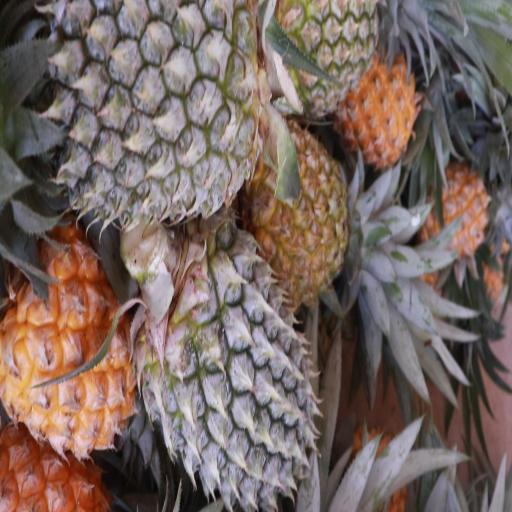------------------------------: (252, 149, 342, 305), (270, 0, 382, 115)
Pineapple - v8 v1: (0, 236, 126, 450), (342, 49, 417, 167), (420, 162, 490, 258)
